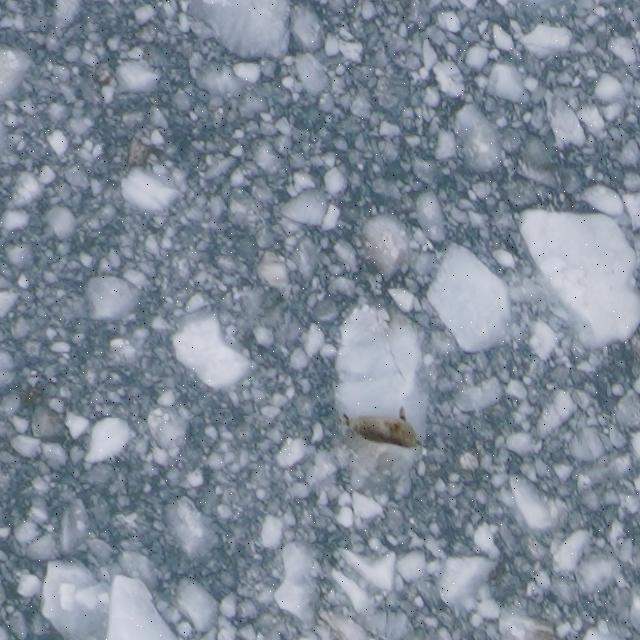seal: (336, 401, 426, 454)
